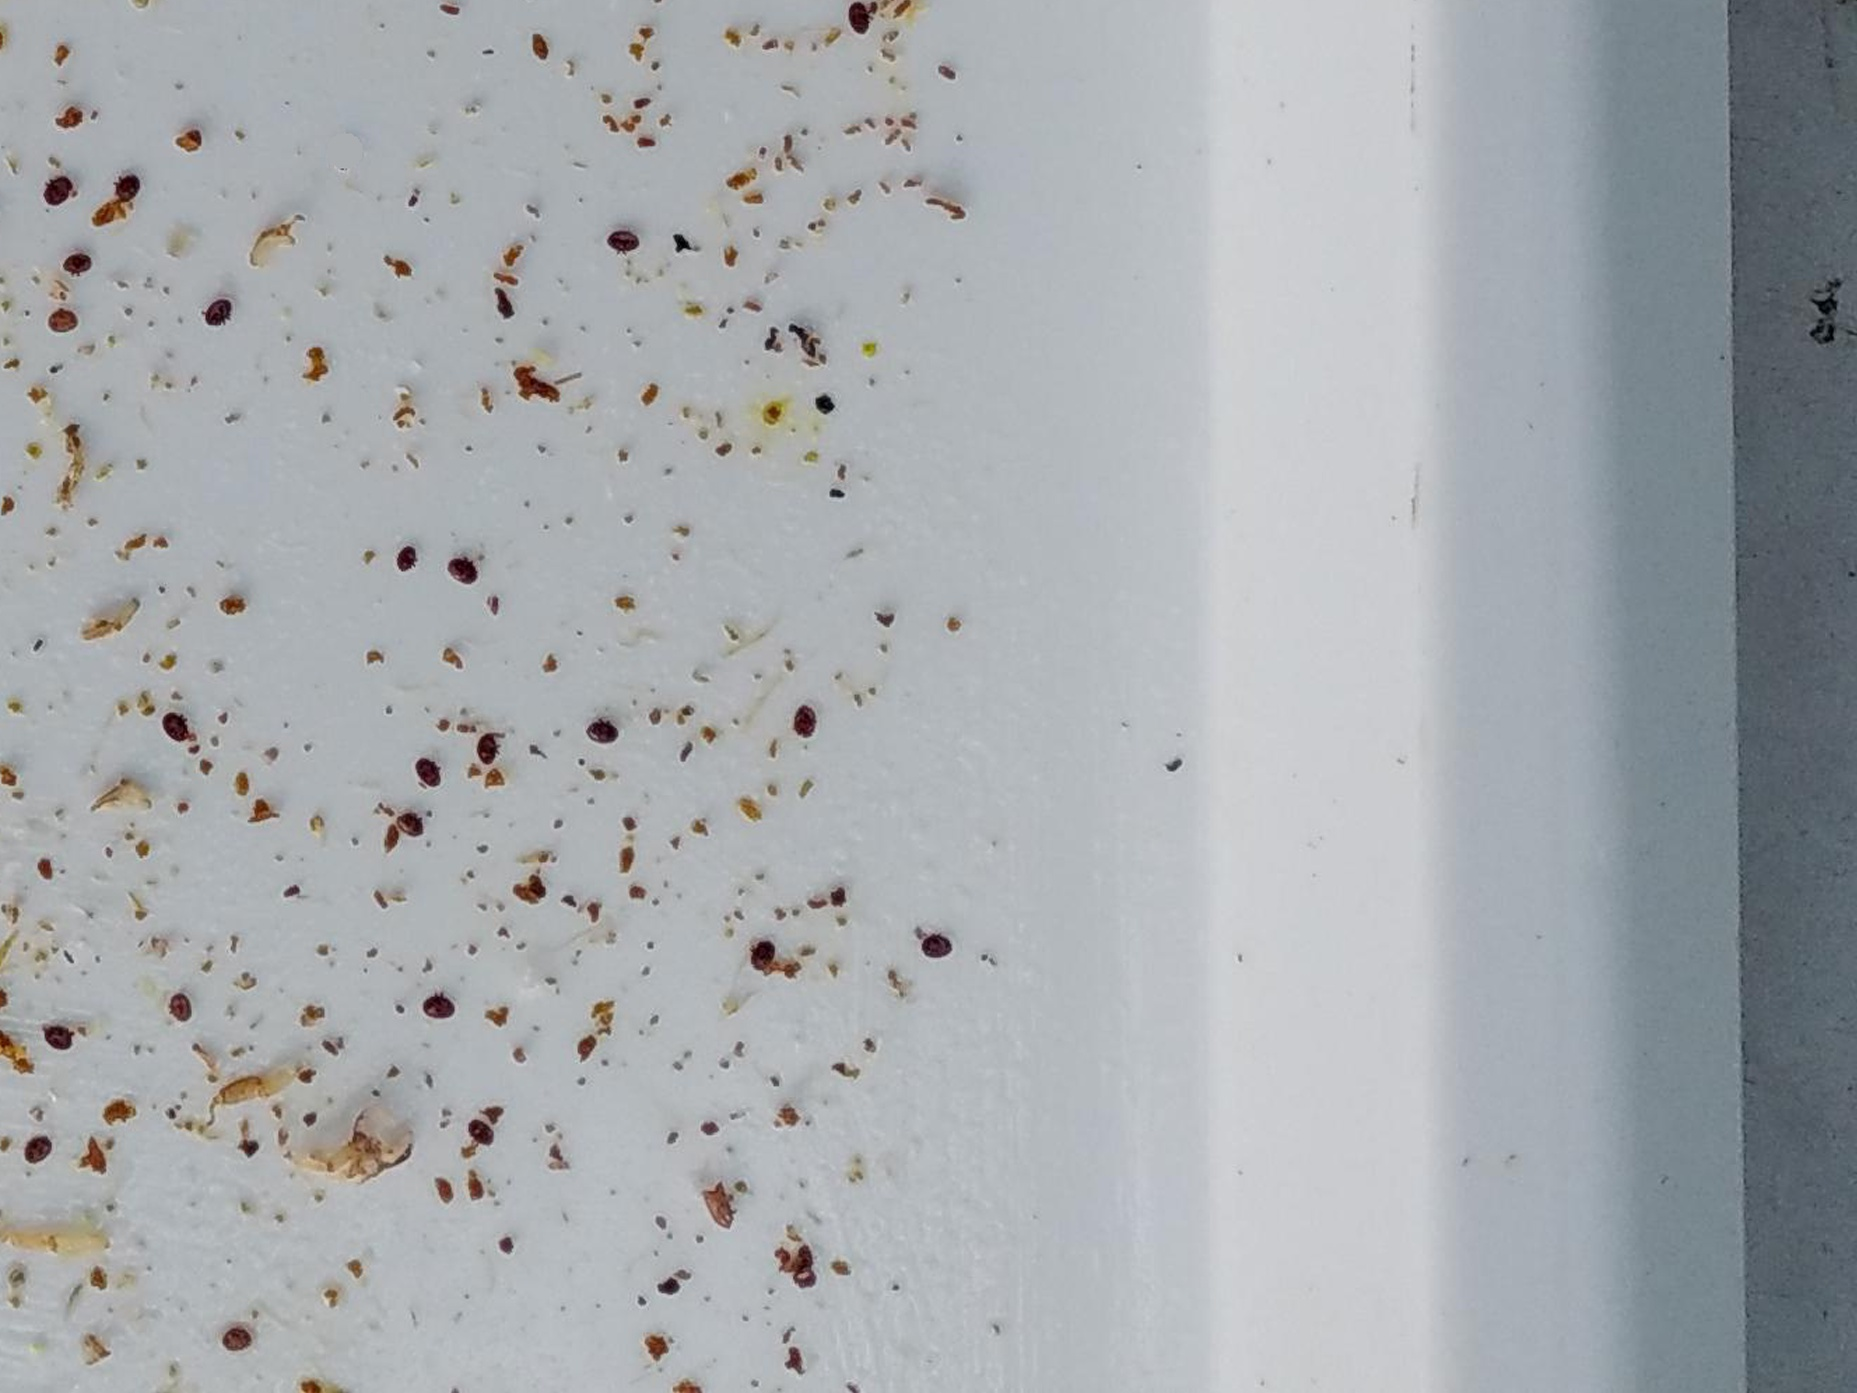Varroa: (220, 1318, 252, 1351), (48, 301, 80, 334), (752, 942, 784, 975), (200, 297, 231, 329), (165, 988, 196, 1018), (391, 544, 420, 575), (414, 751, 443, 781), (61, 250, 91, 279), (606, 225, 635, 255), (792, 702, 821, 732), (426, 992, 455, 1021), (476, 730, 503, 761), (465, 1112, 493, 1141), (587, 716, 615, 745), (113, 171, 140, 200), (42, 1021, 72, 1049), (916, 931, 945, 958), (157, 713, 184, 740), (844, 3, 871, 31), (23, 1135, 50, 1163), (449, 556, 476, 582), (395, 814, 421, 840), (51, 180, 76, 206)
